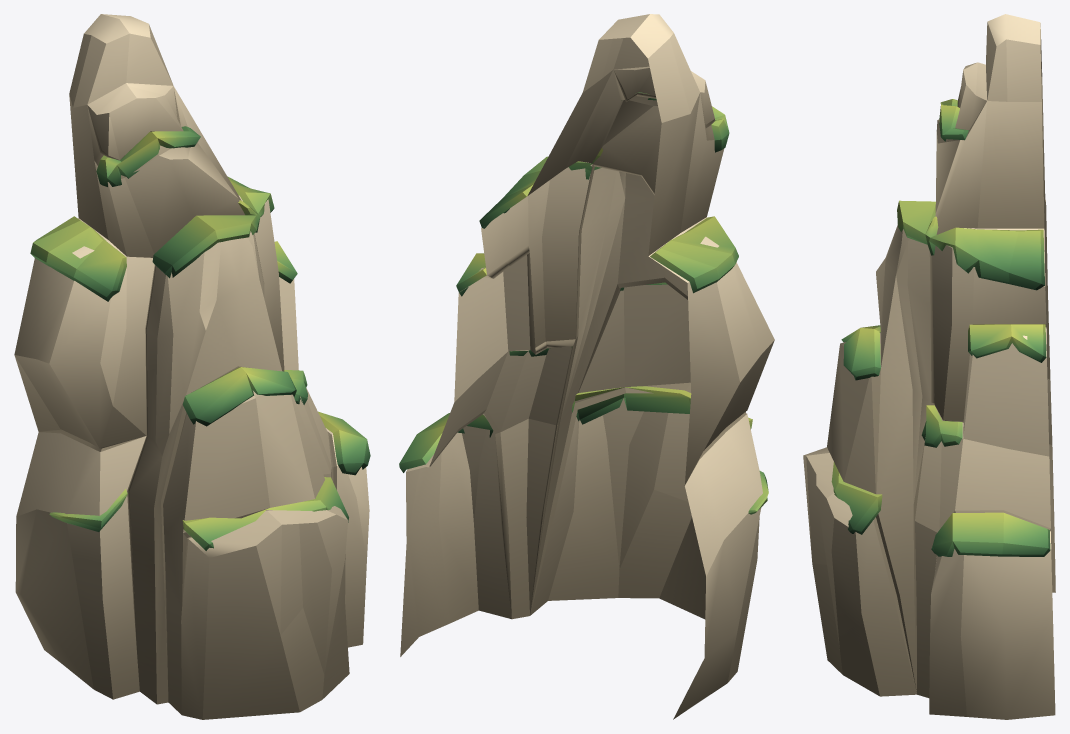
File: cliffSideMoss.fbx
3 views of the same model, side by side, from view 1: azimuth 30°, elevation 25°; view 2: azimuth 150°, elevation 25°; view 3: azimuth 270°, elevation 25° (orthographic). The views are drawn at different scales.
Visible parts, largest first — view 1: cliffSideMoss; view 2: cliffSideMoss; view 3: cliffSideMoss.
Boxes of the visible parts, x1=… form: cliffSideMoss: x1=14, y1=14, x2=370, y2=719; cliffSideMoss: x1=399, y1=14, x2=774, y2=719; cliffSideMoss: x1=803, y1=14, x2=1055, y2=719.
Bounding box in the file's own units: 1136 × 2157 × 813.
